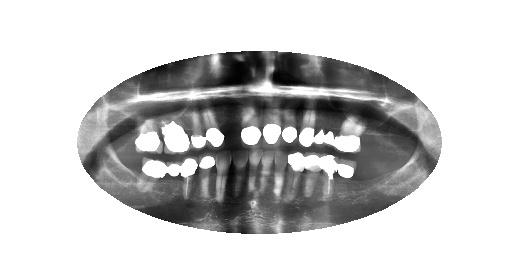i10healthy: (214, 150, 235, 202)
i11healthy: (197, 151, 219, 202)
i12healthy: (177, 153, 201, 202)
i13healthy: (165, 158, 181, 202)
i14healthy: (136, 156, 168, 196)
i15loss: (114, 156, 138, 188)
i2healthy: (337, 155, 359, 202)
i3healthy: (323, 151, 337, 202)
i4healthy: (304, 151, 323, 202)
i5healthy: (287, 149, 305, 204)
i6healthy: (273, 149, 288, 197)
i7healthy: (261, 148, 274, 198)
i8healthy: (248, 146, 262, 198)
i9decay: (233, 148, 248, 200)
u10loss: (224, 97, 240, 148)
u11healthy: (206, 98, 225, 148)
u12healthy: (191, 102, 207, 149)
u13healthy: (161, 103, 194, 152)
u14healthy: (135, 115, 164, 153)
u15loss: (113, 121, 136, 153)
u2loss: (361, 109, 386, 155)
u3healthy: (333, 100, 365, 155)
u4healthy: (322, 100, 338, 147)
u5healthy: (314, 98, 325, 147)
u6healthy: (297, 101, 317, 148)
u7healthy: (279, 101, 299, 146)
u8healthy: (262, 98, 283, 148)
u9healthy: (241, 97, 262, 148)
